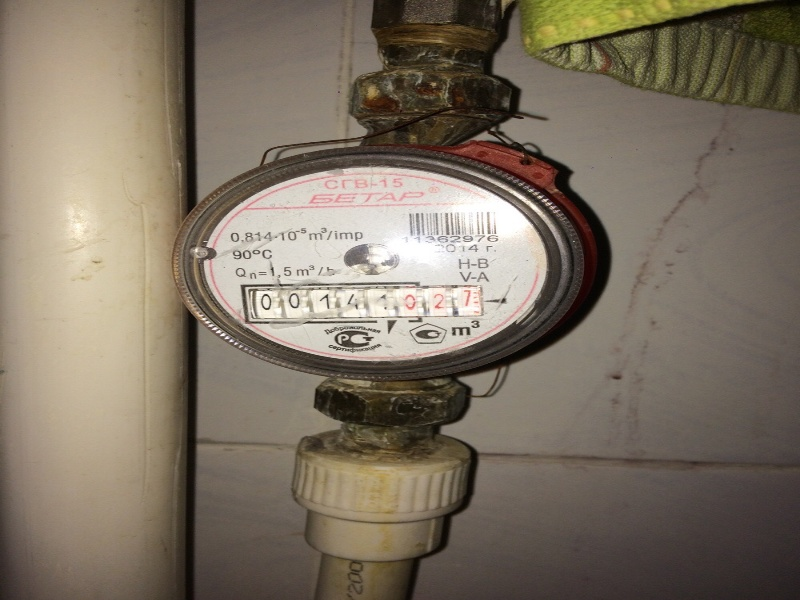meter: (246, 289, 484, 314)
